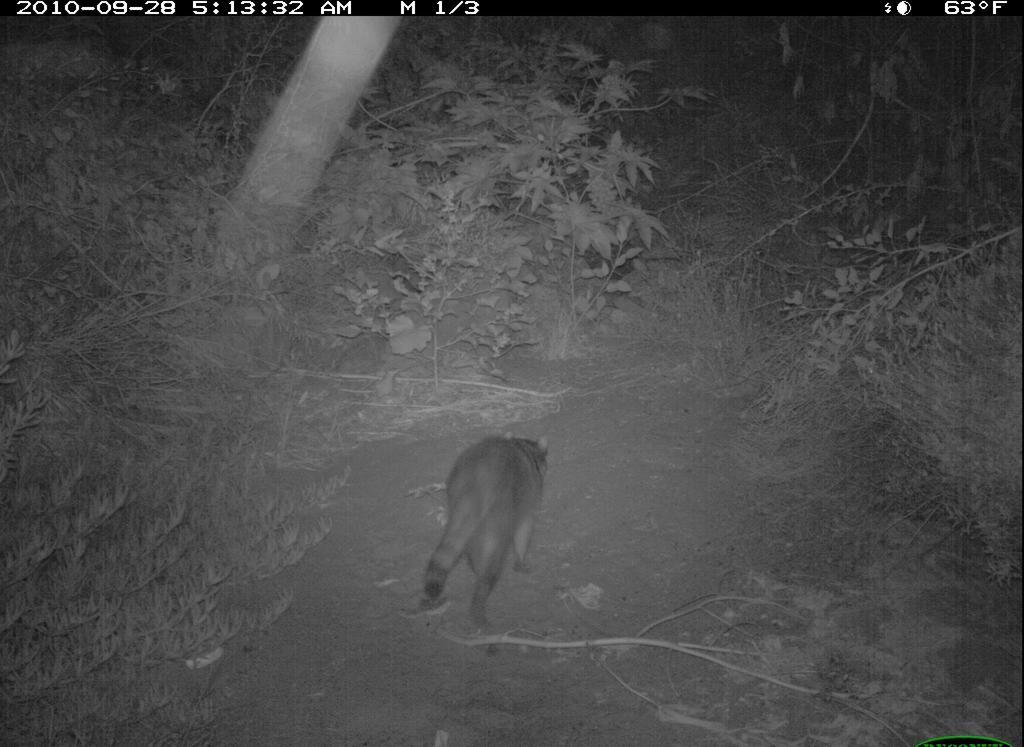raccoon: (413, 424, 560, 635)
